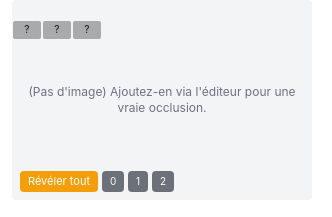
Test: OcclusionStudyCard UI › bouton Révéler tout fonctionne
Click the button "Révéler tout" at (59, 182), box x1=20 y1=171 x2=98 y2=192
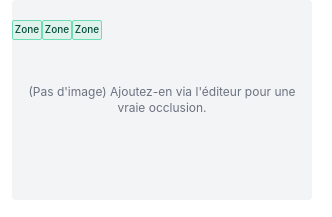
Result: the text "?" is not shown
